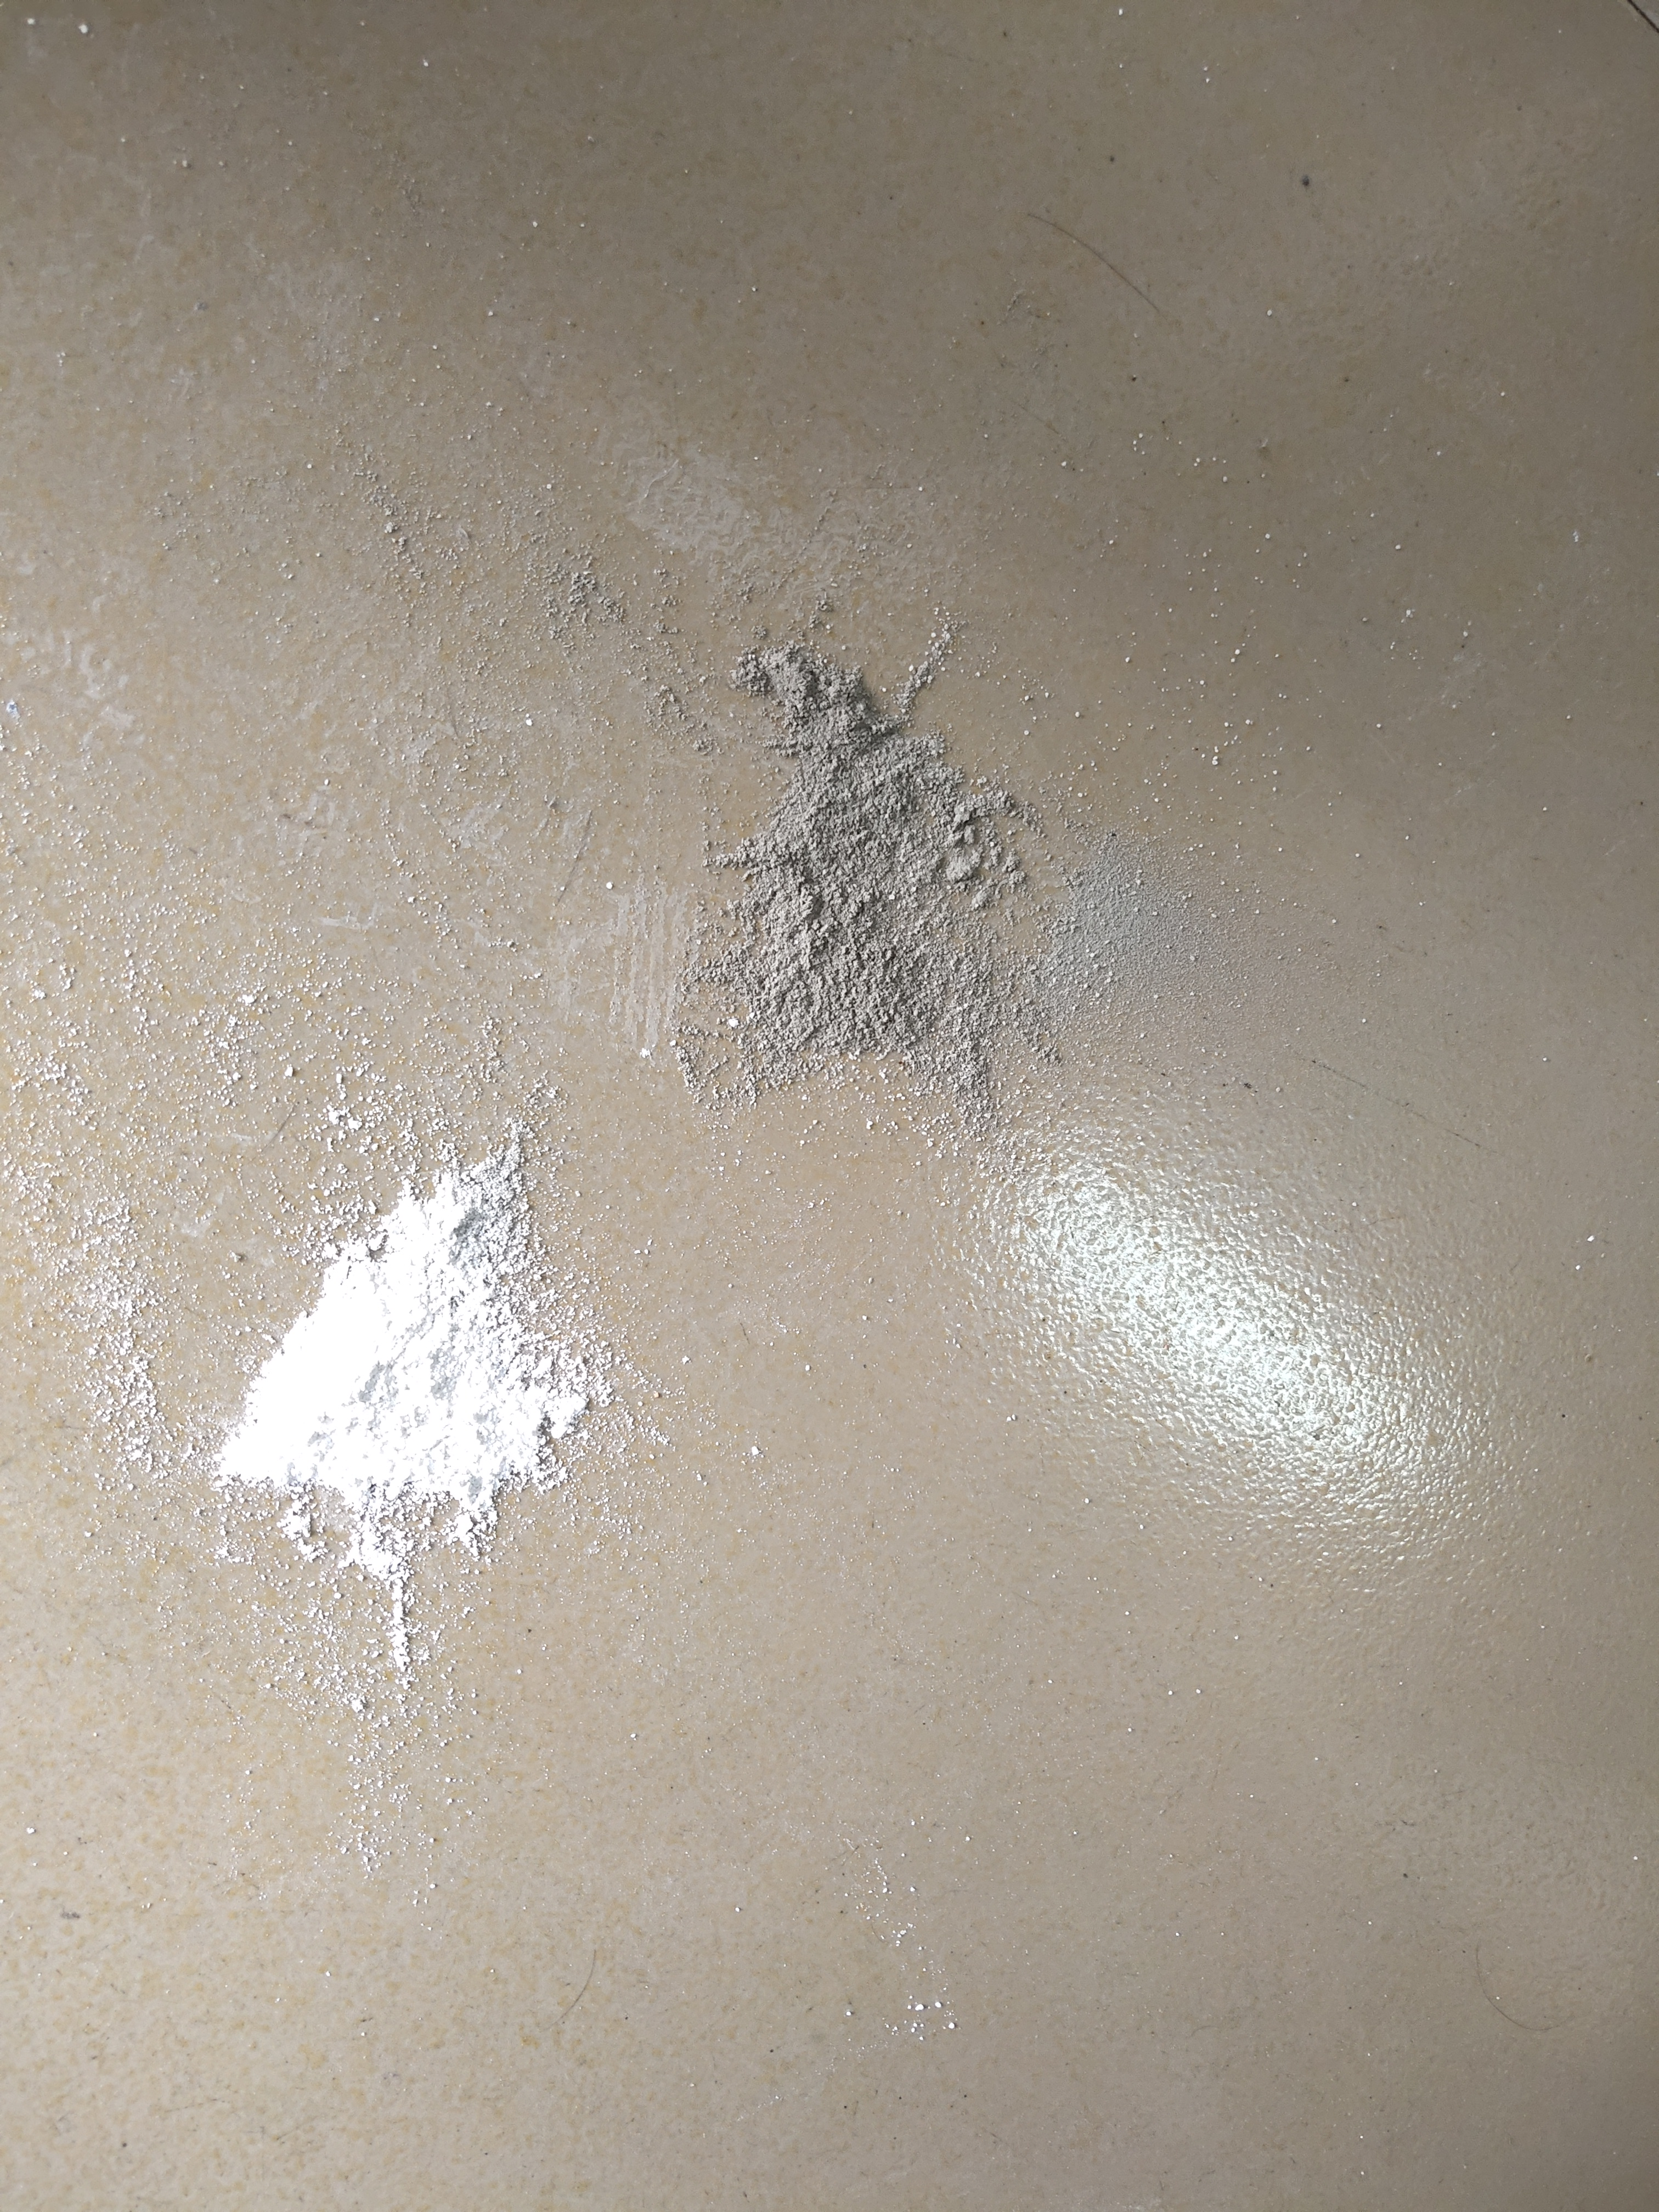ash pile: (213, 1108, 620, 1679), (678, 611, 1080, 1134)
reflection: (997, 1141, 1443, 1493)
